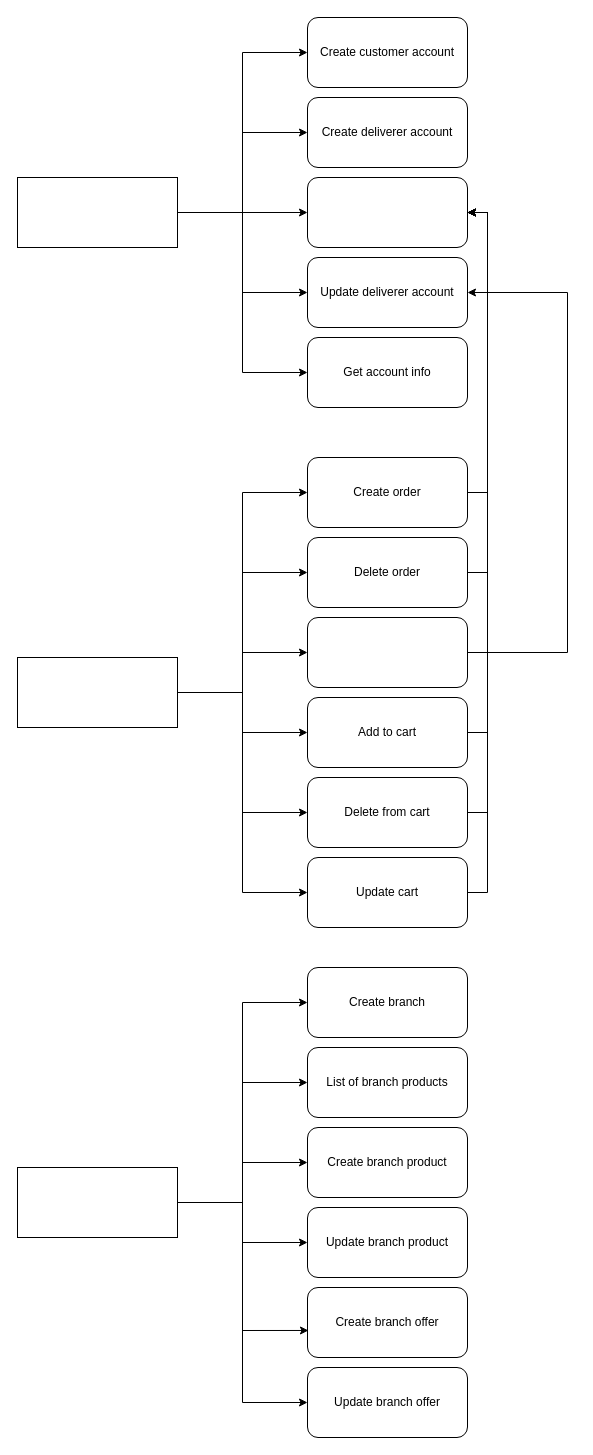
Image size: 593x1455. Some labels were removed from this diagram. Here are the shapes that lost their labels. From the top down, the box of each, then its label:
(16, 176, 178, 248): User Services
(306, 176, 468, 248): Update customer account
(306, 616, 468, 688): Update order status
(16, 656, 178, 728): Order Services
(16, 1166, 178, 1238): Branch Services
